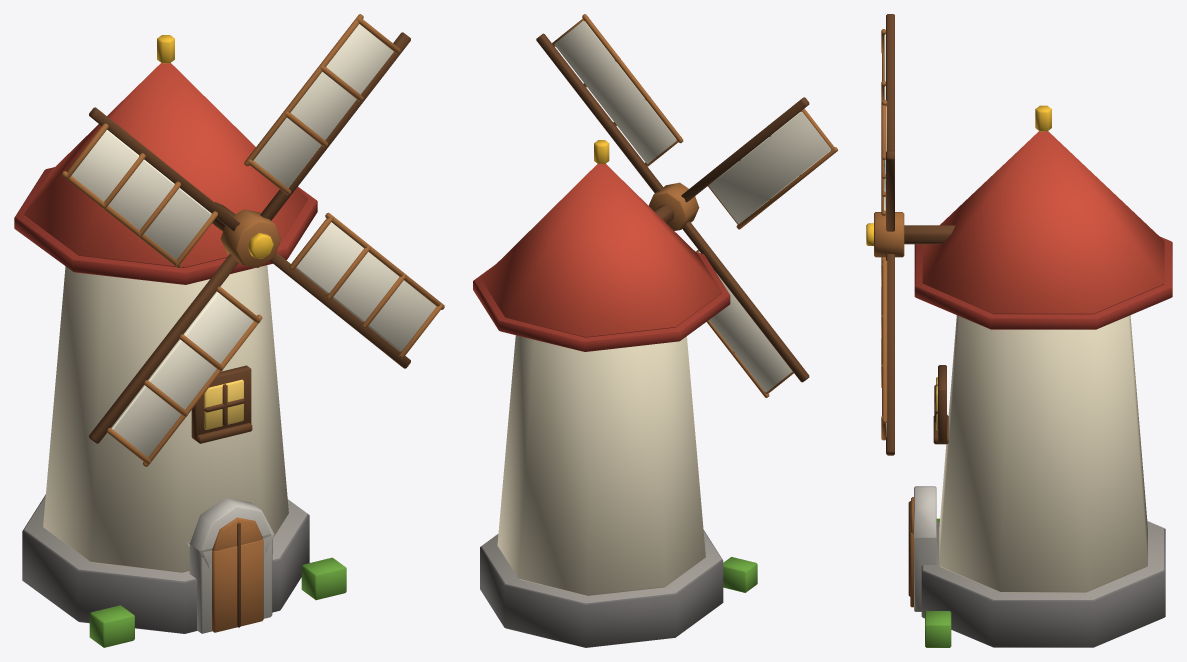
Rendered from P_MedWindmill.fbx.
The picture shows the model from 3 angles, left to right: view 1: azimuth 30°, elevation 25°; view 2: azimuth 150°, elevation 25°; view 3: azimuth 270°, elevation 25°; orthographic projection. The views are drawn at different scales.
Parts seen in each view (by area): view 1: M_Windmill; view 2: M_Windmill; view 3: M_Windmill.
Boxes of the visible parts, left/top/right/bottom form: M_Windmill: left=14, top=14, right=444, bottom=647; M_Windmill: left=473, top=14, right=837, bottom=647; M_Windmill: left=866, top=14, right=1172, bottom=647.
Size of the model in its own units: 5.32 by 7.96 by 4.06.
Materials: 1 (1 with a texture image).
